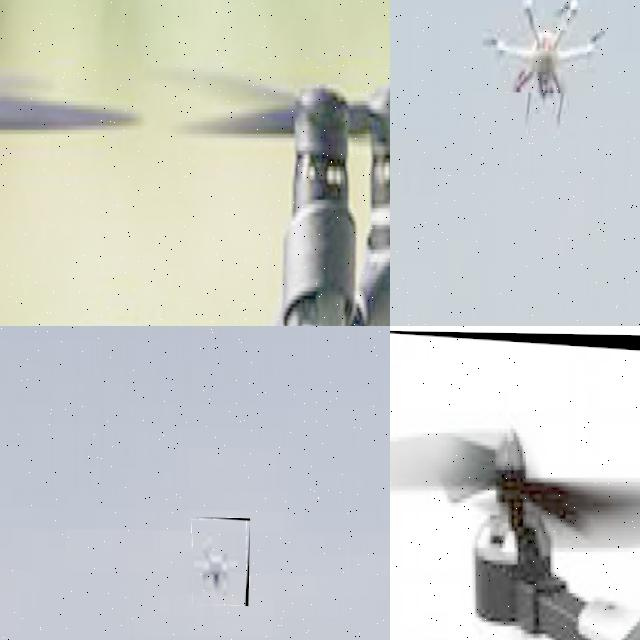0: (191, 516, 250, 606)
drone: (0, 0, 390, 326), (390, 329, 640, 640)
